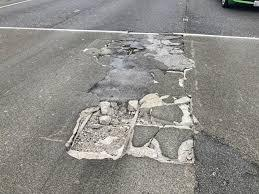pothole: (66, 92, 196, 163), (84, 36, 194, 78)
